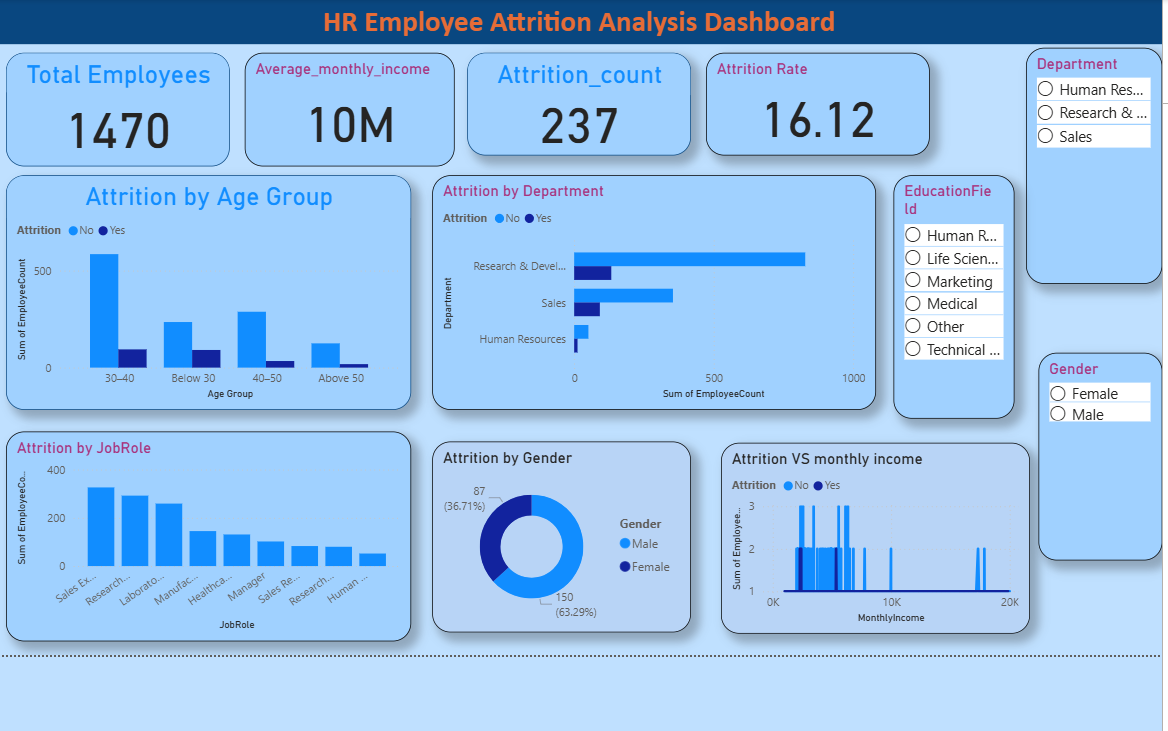

The dashboard page shown, as its layout file describes it:
{"tool":"powerbi","page":{"name":"Page 1","canvas":[1280,720],"ordinal":0},"visuals":[{"type":"card","title":"Total Employees","fields":{"Values":["Sum(HR_analysis.EmployeeCount)"]},"box":[11,59,245.6,112.5],"z":0},{"type":"textbox","box":[0,0,1280.3,49.4],"z":1000},{"type":"card","title":"Average_monthly_income ","fields":{"Values":["Sum(HR_analysis.MonthlyIncome)"]},"box":[273.1,59,230.5,112.5],"z":2000},{"type":"card","title":"Attrition_count","fields":{"Values":["Sum(HR_analysis.EmployeeCount)"]},"box":[517.3,59,245.6,112.5],"z":3000},{"type":"card","title":"Attrition Rate","fields":{"Values":["HR_analysis.Attrition Rate (%)"]},"box":[779.4,59,245.6,112.5],"z":4000},{"type":"clusteredBarChart","title":"Attrition by Department ","fields":{"Category":["HR_analysis.Department"],"Y":["Sum(HR_analysis.EmployeeCount)"],"Series":["HR_analysis.Attrition"]},"box":[478.9,193.5,487.1,258],"z":5000},{"type":"columnChart","title":"Attrition  by JobRole","fields":{"Category":["HR_analysis.JobRole"],"Y":["Sum(HR_analysis.EmployeeCount)"]},"box":[11,474.8,444.6,230.5],"z":6000},{"type":"clusteredColumnChart","title":"Attrition by Age Group ","fields":{"Category":["HR_analysis.Age Group"],"Y":["Sum(HR_analysis.EmployeeCount)"],"Series":["HR_analysis.Attrition"]},"box":[11,193.5,444.6,258],"z":7000},{"type":"donutChart","title":"Attrition by Gender","fields":{"Category":["HR_analysis.Gender"],"Y":["Sum(HR_analysis.EmployeeCount)"]},"box":[478.9,485.8,284,209.9],"z":8000},{"type":"lineChart","title":" Attrition VS monthly income","fields":{"Y":["Sum(HR_analysis.EmployeeCount)"],"Category":["HR_analysis.MonthlyIncome"],"Series":["HR_analysis.Attrition"]},"box":[795.9,487.1,338.9,209.9],"z":9000},{"type":"listSlicer","fields":{"Values":["HR_analysis.Department"]},"box":[1130.7,53.5,149.6,259.3],"z":10000},{"type":"listSlicer","fields":{"Values":["HR_analysis.Gender"]},"box":[1144.4,388.3,135.8,227.8],"z":11000},{"type":"listSlicer","fields":{"Values":["HR_analysis.EducationField"]},"box":[985.3,193.5,133.1,267.6],"z":12000}]}

Visuals, with their boxes in screenshot pixels (x1, y1, x2, y2):
"Total Employees" card: select_region(13, 47, 234, 148)
textbox: select_region(3, 0, 1155, 38)
"Average_monthly_income " card: select_region(249, 47, 456, 148)
"Attrition_count" card: select_region(469, 47, 690, 148)
"Attrition Rate" card: select_region(704, 47, 925, 148)
"Attrition by Department " clusteredBarChart: select_region(434, 168, 872, 400)
"Attrition  by JobRole" columnChart: select_region(13, 421, 413, 629)
"Attrition by Age Group " clusteredColumnChart: select_region(13, 168, 413, 400)
"Attrition by Gender" donutChart: select_region(434, 431, 690, 620)
" Attrition VS monthly income" lineChart: select_region(719, 432, 1024, 621)
listSlicer - HR_analysis.Department: select_region(1021, 42, 1155, 275)
listSlicer - HR_analysis.Gender: select_region(1033, 343, 1155, 548)
listSlicer - HR_analysis.EducationField: select_region(890, 168, 1009, 409)
